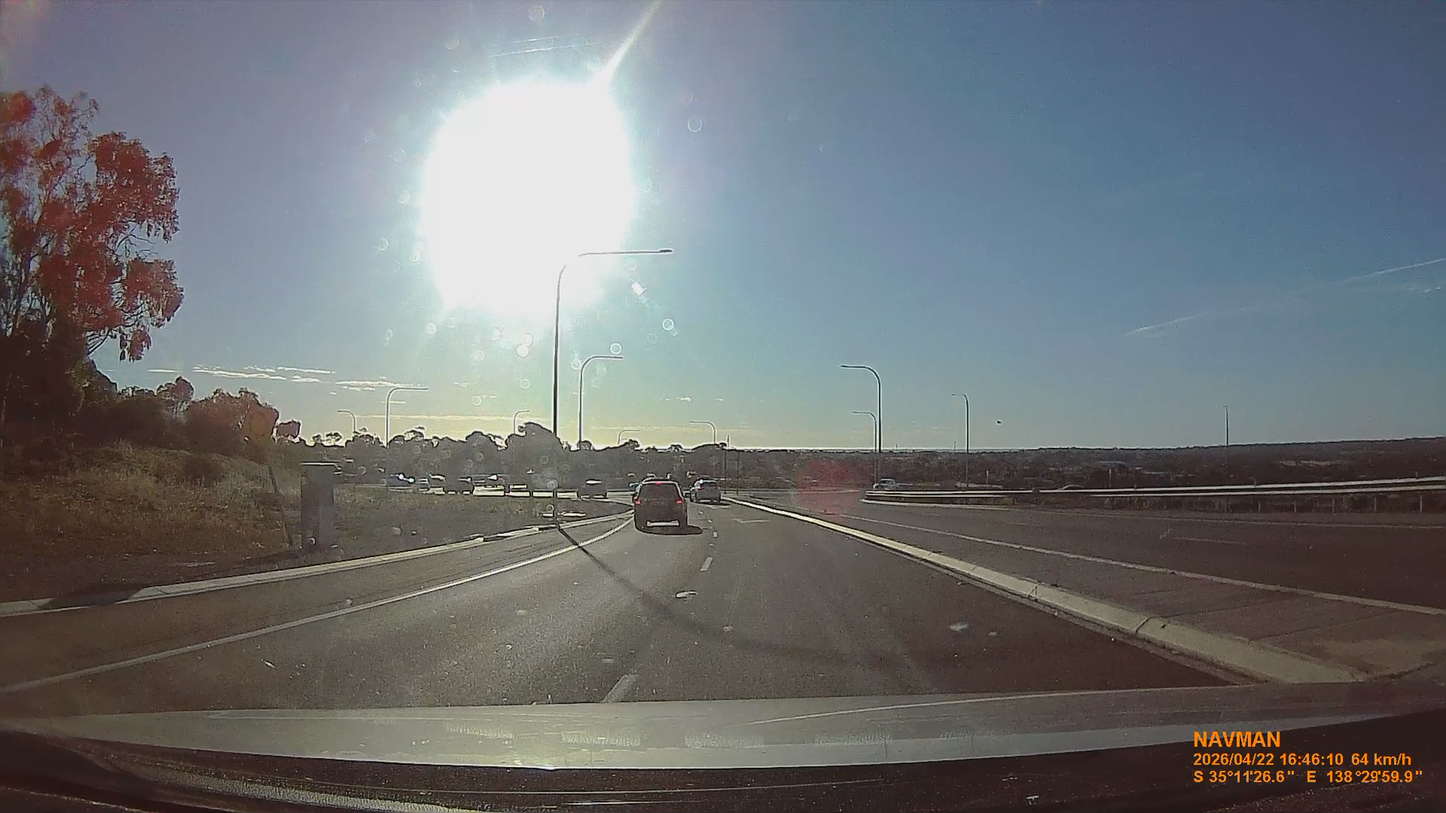road barriers: (864, 477, 1445, 513)
